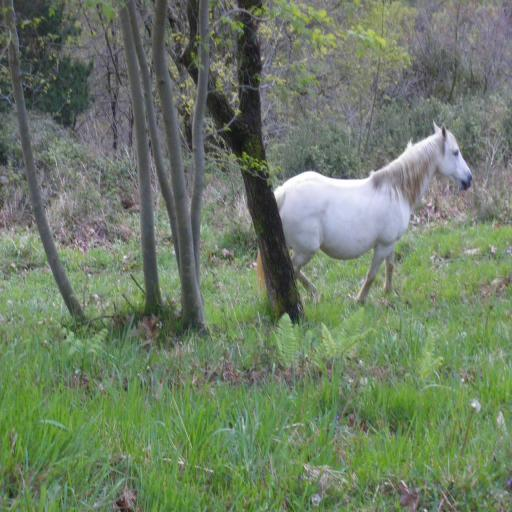Horse: (251, 117, 476, 306)
